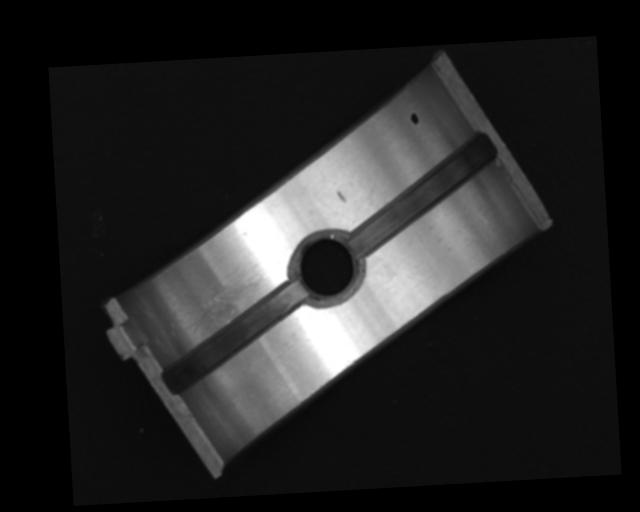blot: (410, 112, 419, 126)
bruise: (335, 190, 346, 203)
gap: (348, 134, 496, 256), (160, 281, 310, 397)
hole: (289, 229, 365, 308)
scratch: (183, 274, 269, 339)
